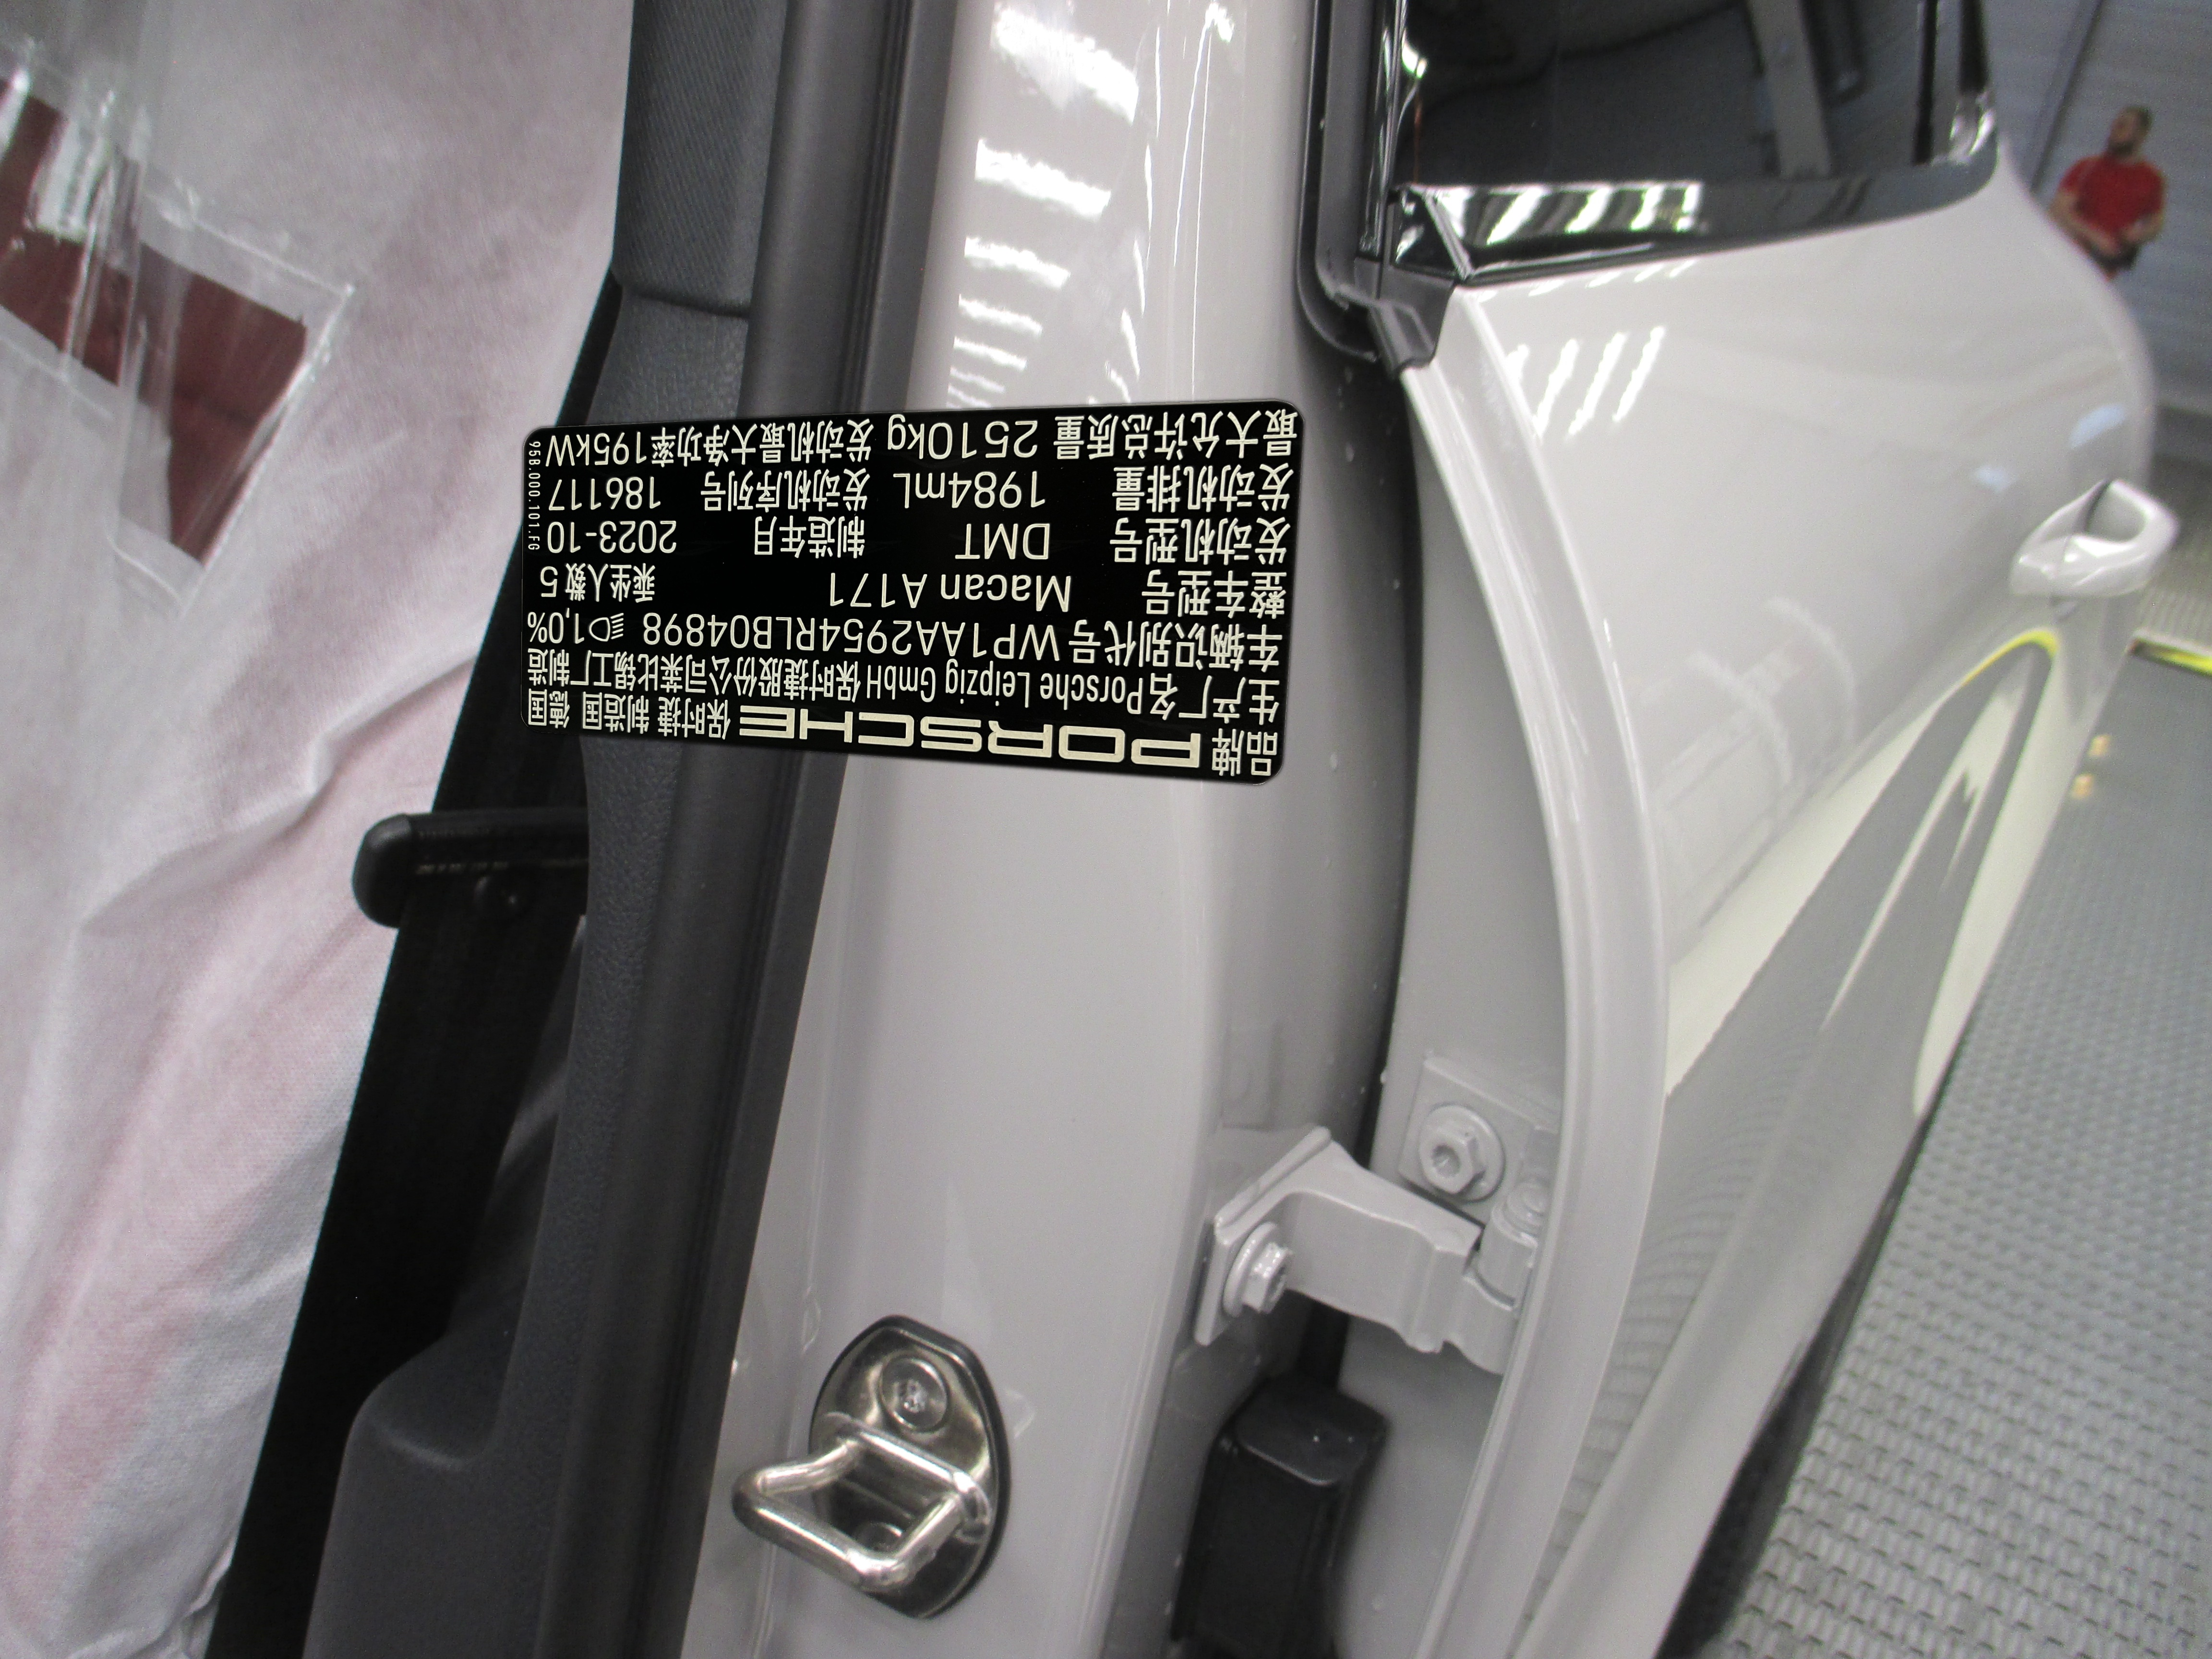Typlabel-China: (521, 399, 1305, 784)
